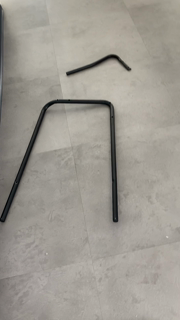L pipe: (64, 53, 135, 82)
U pipe: (1, 98, 123, 227)
